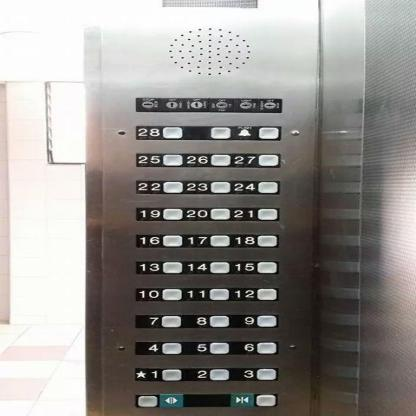10: (132, 286, 183, 302)
11: (183, 285, 230, 301)
12: (230, 286, 278, 302)
13: (133, 260, 183, 274)
14: (182, 259, 230, 274)
15: (231, 260, 279, 274)
16: (133, 233, 183, 248)
17: (184, 232, 231, 247)
18: (230, 232, 280, 248)
19: (134, 206, 184, 222)
2: (183, 366, 232, 382)
20: (184, 205, 232, 221)
21: (231, 206, 280, 221)
22: (132, 178, 184, 194)
23: (185, 179, 232, 195)
24: (232, 179, 280, 195)
25: (134, 151, 186, 167)
26: (184, 152, 233, 167)
27: (232, 152, 282, 168)
28: (134, 124, 187, 140)
3: (234, 366, 279, 381)
4: (132, 340, 184, 356)
5: (184, 340, 232, 356)
6: (231, 340, 279, 356)
7: (132, 313, 184, 328)
8: (184, 312, 232, 329)
9: (231, 312, 279, 328)
alarm: (232, 124, 283, 141)
close: (227, 392, 278, 407)
empty: (185, 123, 234, 140)
keyhole: (133, 96, 163, 113), (160, 96, 186, 113), (183, 96, 209, 113), (208, 96, 234, 113), (234, 96, 260, 113), (256, 97, 282, 114)
open: (132, 393, 184, 408)
s1: (131, 366, 186, 382)
